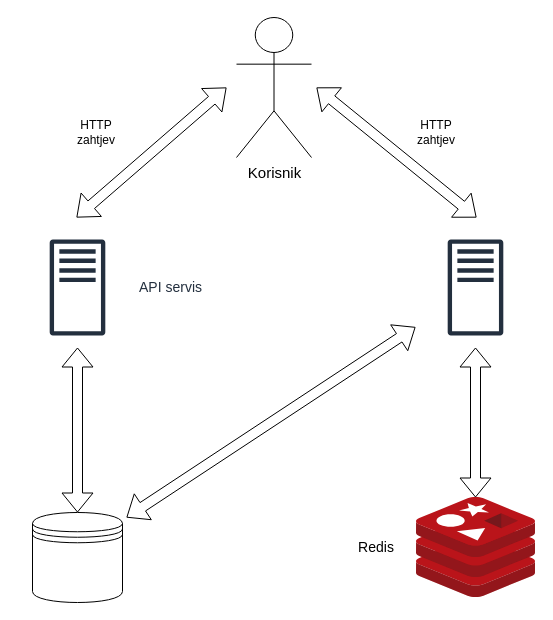
This 553x620 diagram has some shape labels left out. Here are the shapes that lost their labels. From the top down, the centre of each, then its label:
the point at 475,287: Servis za korisničko sučelje
the point at 77,557: PostgreSQL
